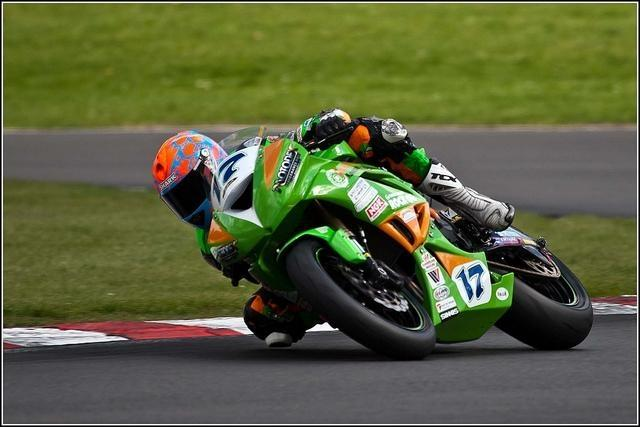motorcycle: (203, 118, 592, 364)
